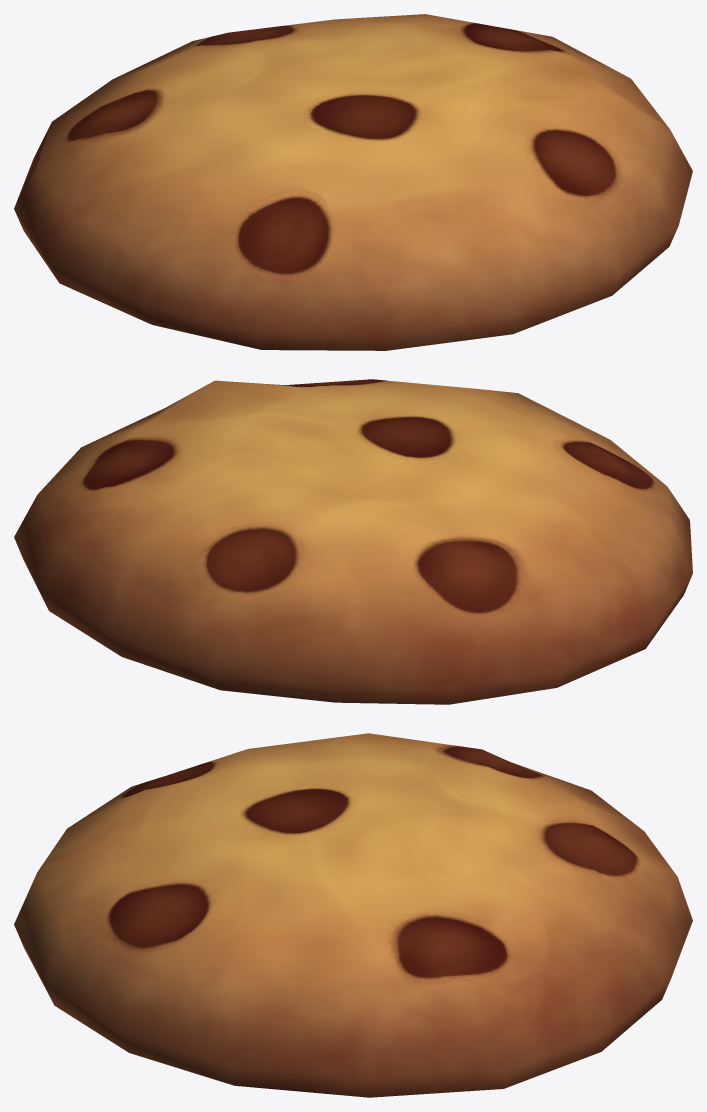
The model's file is Cookie.fbx.
The picture shows the model from 3 angles, top to bottom: view 1: azimuth 30°, elevation 25°; view 2: azimuth 150°, elevation 25°; view 3: azimuth 270°, elevation 25°; orthographic projection. The views are drawn at different scales.
Visible parts, largest first — view 1: Cookie_1; view 2: Cookie_1; view 3: Cookie_1.
Boxes of the visible parts, x1,y1,x2,y2 form: Cookie_1: (14, 14, 692, 350); Cookie_1: (14, 379, 692, 704); Cookie_1: (14, 733, 692, 1097).
Size of the model in its own units: 26.98 by 5.55 by 25.43.
